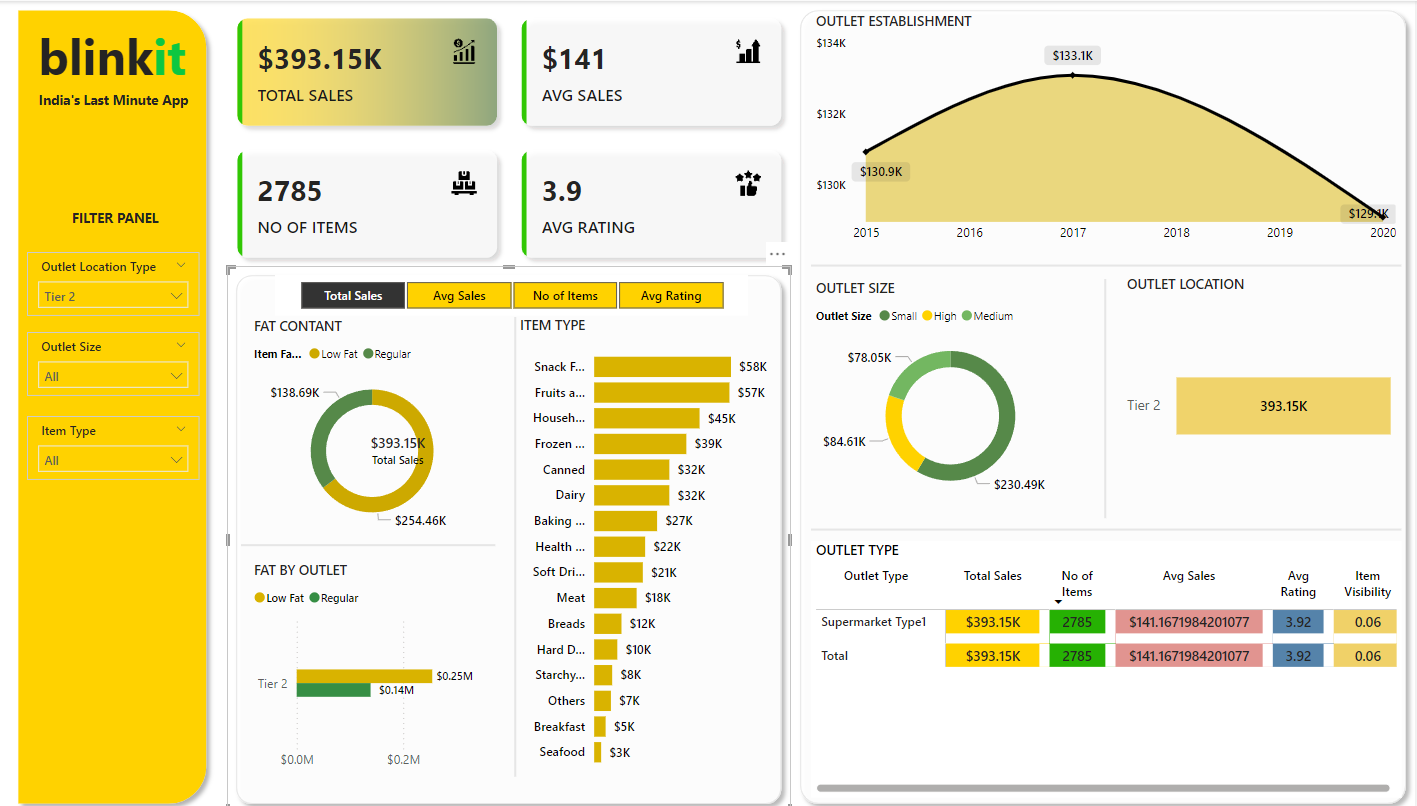

What the dashboard file says about the page in this screenshot:
{"tool":"powerbi","page":{"name":"Page 1","canvas":[1400,800],"ordinal":0},"visuals":[{"type":"shape","box":[14.9,0,203.4,800],"z":0},{"type":"textbox","box":[14.9,16.1,203.4,93.1],"z":1000},{"type":"textbox","box":[32.2,83.9,170.1,34.5],"z":2000},{"type":"cardVisual","fields":{"Data":["BlinkIT Grocery Data.Total Sales","BlinkIT Grocery Data.Avg Sales","BlinkIT Grocery Data.No of Items","BlinkIT Grocery Data.Avg Rating"]},"box":[223,0,570.1,270.1],"z":3000},{"type":"shape","box":[229.9,260.9,555.2,539.1],"z":4000},{"type":"donutChart","title":"FAT CONTANT","fields":{"Y":["BlinkIT Grocery Data.Total Sales"],"Category":["BlinkIT Grocery Data.Item Fat Content"]},"box":[251.7,311.5,242.5,219.5],"z":5000},{"type":"slicer","fields":{"Values":["Metrics.Metrics"]},"box":[277,270.1,465.5,40.2],"z":6000},{"type":"cardVisual","fields":{"Data":["BlinkIT Grocery Data.Total Sales"]},"box":[351,409.4,94.8,53.1],"z":7000},{"type":"clusteredBarChart","title":"FAT BY OUTLET","fields":{"Y":["BlinkIT Grocery Data.Total Sales"],"Category":["BlinkIT Grocery Data.Outlet Location Type"],"Series":["BlinkIT Grocery Data.Item Fat Content"]},"box":[251.7,551.7,242.5,213.8],"z":7001},{"type":"shape","box":[243.7,520.7,250.6,29.9],"z":7002},{"type":"shape","box":[494.3,311.5,37.9,452.9],"z":7003},{"type":"barChart","title":"ITEM TYPE","fields":{"Category":["BlinkIT Grocery Data.Item Type"],"Y":["BlinkIT Grocery Data.Total Sales"]},"box":[513.8,310.3,258.6,455.2],"z":7004},{"type":"shape","box":[785.2,0,614.8,800],"z":7005},{"type":"lineChart","title":" OUTLET ESTABLISHMENT ","fields":{"Y":["BlinkIT Grocery Data.Total Sales"],"Category":["BlinkIT Grocery Data.Outlet Establishment Year"]},"box":[804.9,11.1,581.5,235.8],"z":7006},{"type":"shape","box":[804.6,246,581.6,28.7],"z":7007},{"type":"donutChart","title":"OUTLET SIZE","fields":{"Y":["BlinkIT Grocery Data.Total Sales"],"Category":["BlinkIT Grocery Data.Outlet Size"]},"box":[804.6,273.6,274.7,225.3],"z":7008},{"type":"shape","box":[1075.9,273.6,37.9,235.6],"z":7009},{"type":"funnel","title":"OUTLET LOCATION","fields":{"Y":["Sum(BlinkIT Grocery Data.Sales)"],"Category":["BlinkIT Grocery Data.Outlet Location Type"]},"box":[1111.5,270.1,274.7,239.1],"z":7010},{"type":"shape","box":[804.6,506.9,581.6,28.7],"z":7011},{"type":"pivotTable","title":"OUTLET TYPE","fields":{"Rows":["BlinkIT Grocery Data.Outlet Type"],"Values":["BlinkIT Grocery Data.Total Sales","BlinkIT Grocery Data.No of Items","BlinkIT Grocery Data.Avg Sales","BlinkIT Grocery Data.Avg Rating","Avg(BlinkIT Grocery Data.Item Visibility)"]},"box":[804.6,532.2,581.6,252.9],"z":7012},{"type":"slicer","fields":{"Values":["BlinkIT Grocery Data.Outlet Size"]},"box":[32.2,326.4,170.1,63.2],"z":7013},{"type":"slicer","fields":{"Values":["BlinkIT Grocery Data.Outlet Location Type"]},"box":[32.2,247.1,170.1,63.2],"z":7014},{"type":"slicer","fields":{"Values":["BlinkIT Grocery Data.Item Type"]},"box":[32.2,409.2,170.1,63.2],"z":7015},{"type":"textbox","box":[46,200,146,37.9],"z":7016}]}

Visuals, with their boxes in screenshot pixels (x1, y1, x2, y2), scaled from the page's 1400x800 canvas onto the 1417x806 screenshot:
shape: rect(15, 0, 221, 805)
textbox: rect(15, 16, 221, 110)
textbox: rect(33, 85, 205, 119)
cardVisual - BlinkIT Grocery Data.Total Sales x BlinkIT Grocery Data.Avg Sales: rect(226, 0, 803, 272)
shape: rect(233, 263, 795, 805)
"FAT CONTANT" donutChart: rect(255, 314, 500, 535)
slicer - Metrics.Metrics: rect(280, 272, 752, 313)
cardVisual - BlinkIT Grocery Data.Total Sales: rect(355, 412, 451, 466)
"FAT BY OUTLET" clusteredBarChart: rect(255, 556, 500, 771)
shape: rect(247, 525, 500, 555)
shape: rect(500, 314, 539, 770)
"ITEM TYPE" barChart: rect(520, 313, 782, 771)
shape: rect(795, 0, 1416, 805)
" OUTLET ESTABLISHMENT " lineChart: rect(815, 11, 1403, 249)
shape: rect(814, 248, 1403, 277)
"OUTLET SIZE" donutChart: rect(814, 276, 1092, 503)
shape: rect(1089, 276, 1127, 513)
"OUTLET LOCATION" funnel: rect(1125, 272, 1403, 513)
shape: rect(814, 511, 1403, 540)
"OUTLET TYPE" pivotTable: rect(814, 536, 1403, 791)
slicer - BlinkIT Grocery Data.Outlet Size: rect(33, 329, 205, 393)
slicer - BlinkIT Grocery Data.Outlet Location Type: rect(33, 249, 205, 313)
slicer - BlinkIT Grocery Data.Item Type: rect(33, 412, 205, 476)
textbox: rect(47, 202, 194, 240)
